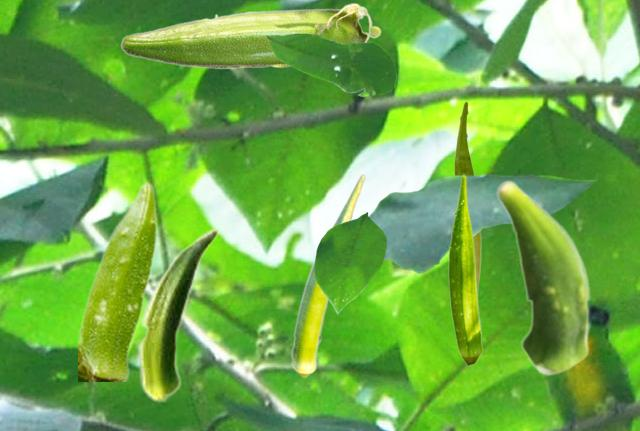okra: (495, 179, 591, 375), (120, 2, 380, 68), (78, 180, 157, 380), (291, 173, 365, 377), (137, 228, 218, 402), (448, 174, 482, 365), (453, 101, 480, 293)
